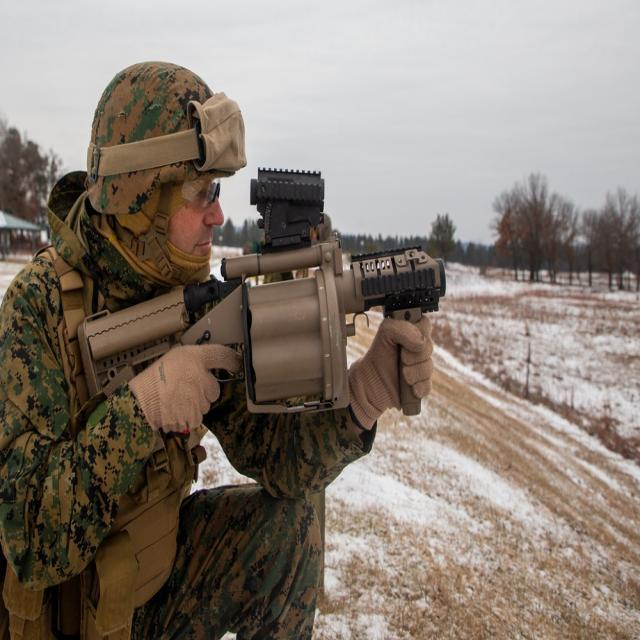rocket launcher: (77, 237, 455, 412)
scope: (247, 163, 333, 238)
